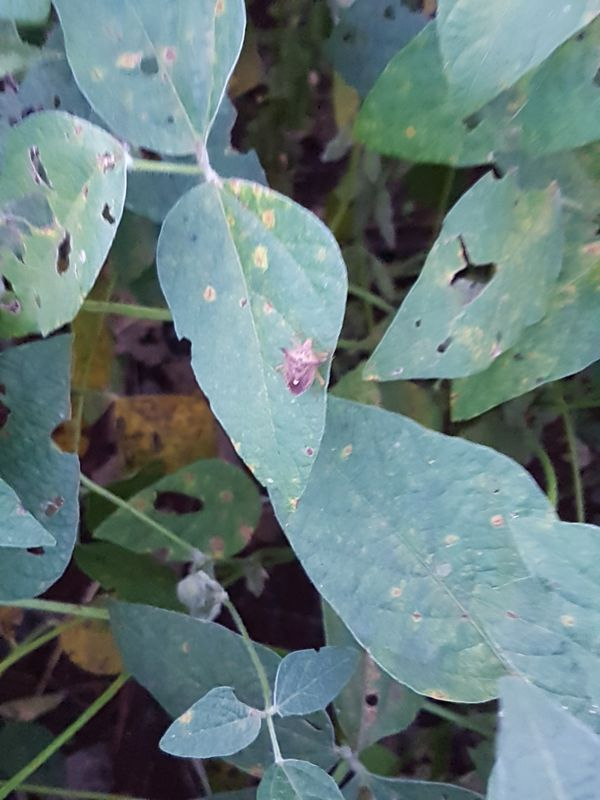Euschistus_heros_adulto: (267, 326, 335, 406)
